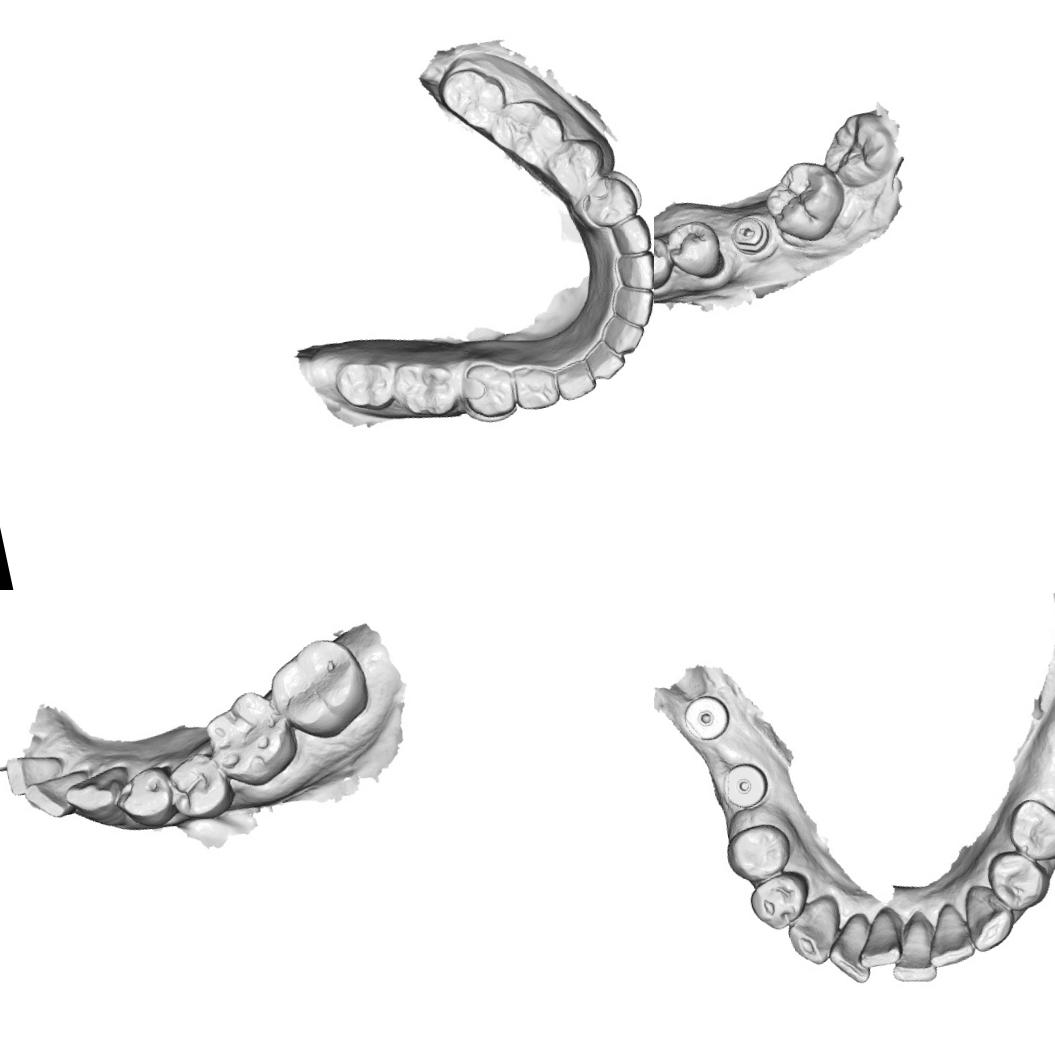canine: (782, 892, 849, 971), (957, 878, 1019, 956), (60, 766, 132, 825), (606, 211, 654, 260), (552, 356, 598, 404)
implant: (681, 690, 740, 750), (716, 756, 770, 812)
implant_minus: (724, 210, 774, 260)
incisor: (846, 902, 909, 973), (917, 900, 978, 972), (820, 914, 877, 991), (882, 916, 941, 989), (20, 771, 85, 824), (0, 747, 64, 800), (596, 308, 649, 360), (606, 276, 654, 333), (582, 334, 630, 385), (610, 245, 654, 297)
molar: (262, 630, 376, 746), (198, 683, 304, 796), (756, 152, 854, 251), (815, 104, 906, 196), (484, 92, 572, 174), (435, 60, 513, 138), (386, 352, 464, 426), (330, 352, 402, 419)
premolar: (539, 131, 612, 203), (742, 866, 818, 934), (720, 818, 796, 884), (164, 749, 232, 822), (984, 844, 1052, 916), (661, 214, 728, 287), (111, 763, 178, 835), (456, 356, 521, 426), (1002, 790, 1055, 867), (577, 172, 642, 232), (508, 358, 563, 414), (654, 231, 677, 295)
